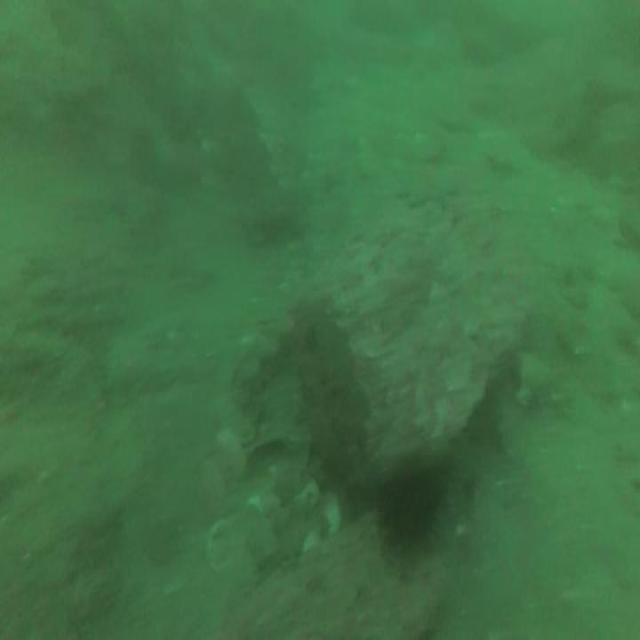echinus: (379, 476, 441, 545)
